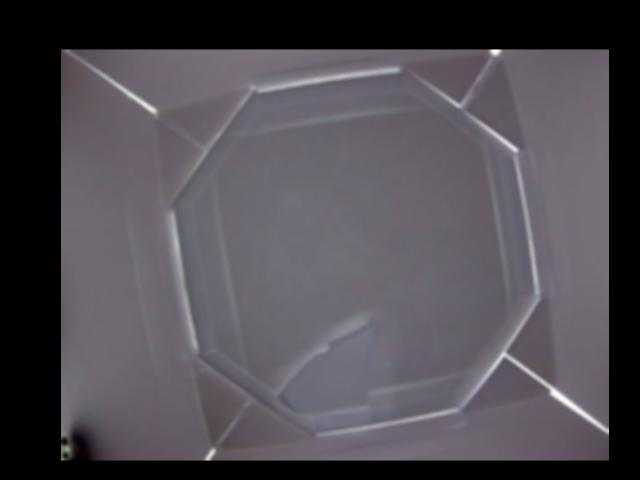China: (279, 322, 385, 425)
